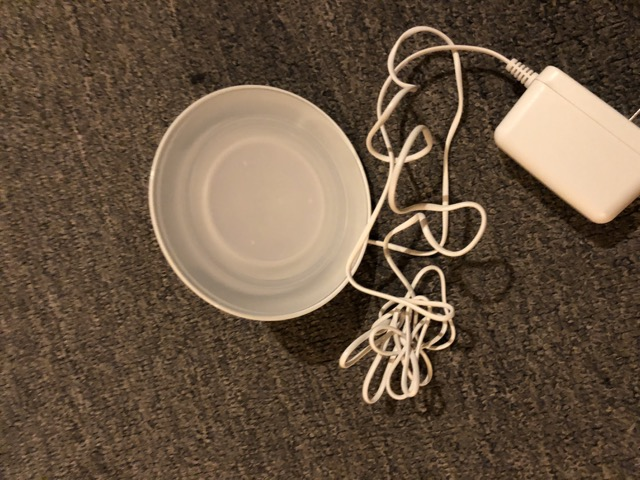light: (132, 76, 395, 348)
